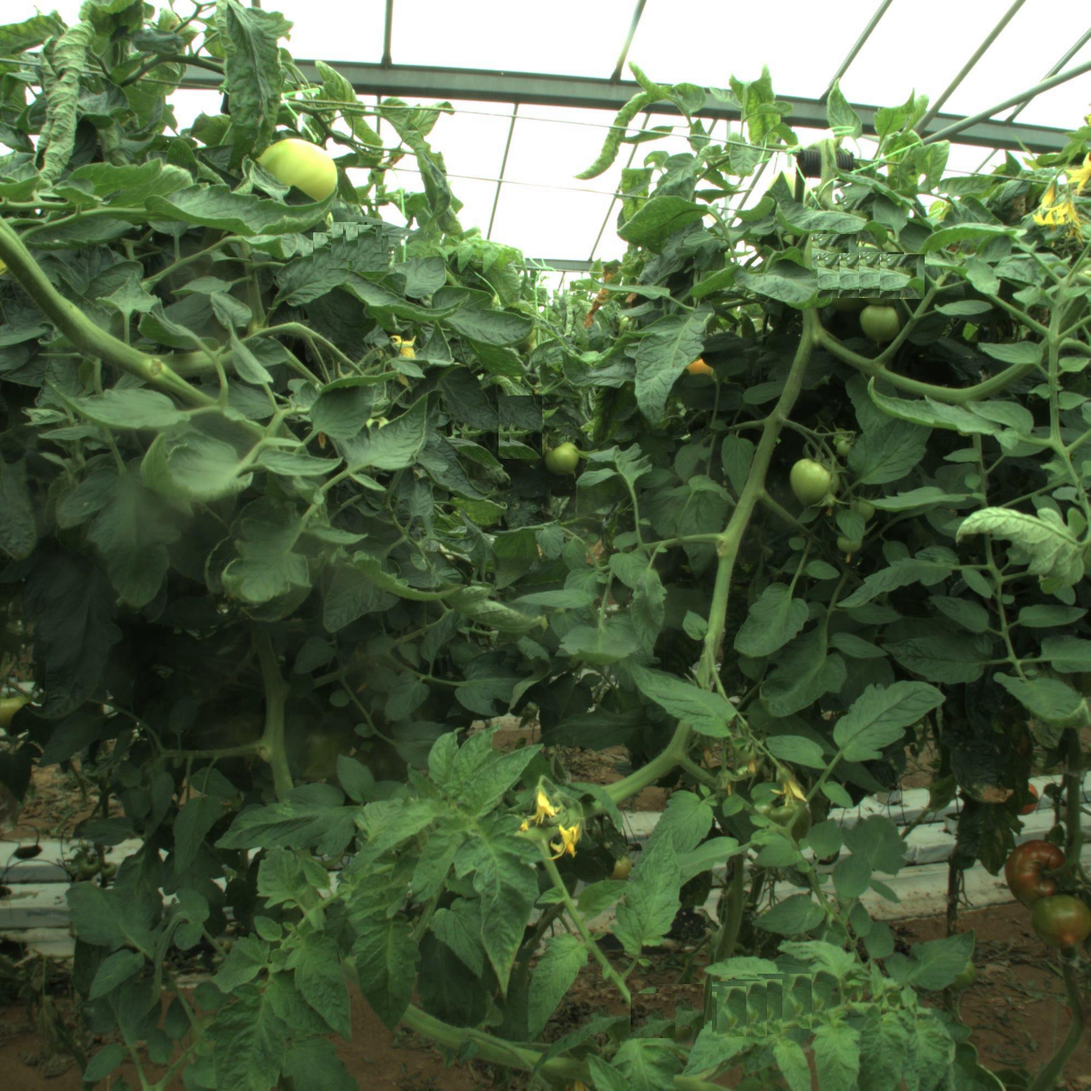semi-ripe: (1003, 840, 1075, 912), (1030, 891, 1090, 951)
unripe: (253, 137, 337, 221), (786, 455, 839, 509), (859, 304, 903, 349), (544, 442, 582, 480)
